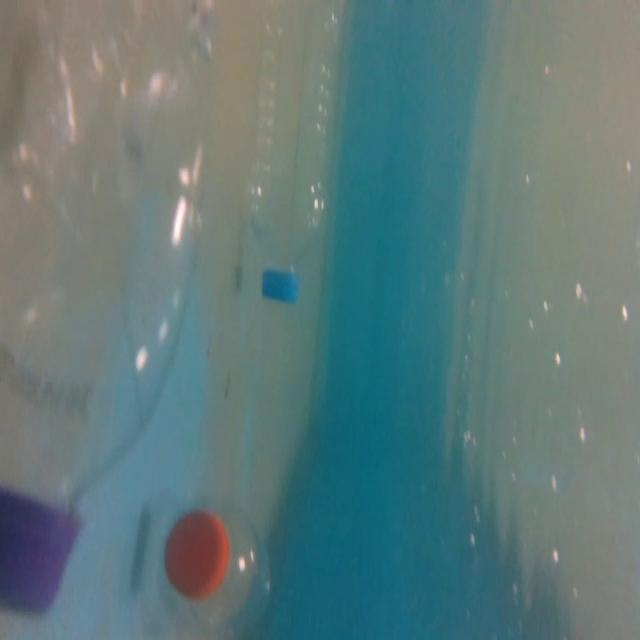plastic bottle: (0, 6, 194, 602), (246, 2, 349, 320), (152, 494, 275, 640)
